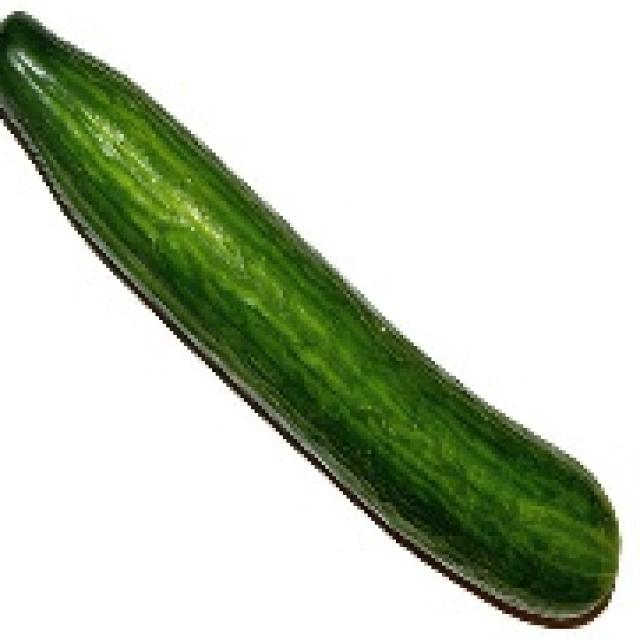cucumber: (0, 4, 615, 632)
